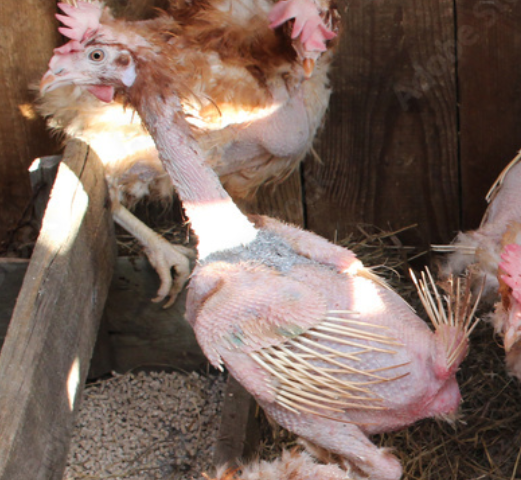Unhealthy: (34, 11, 475, 472)
